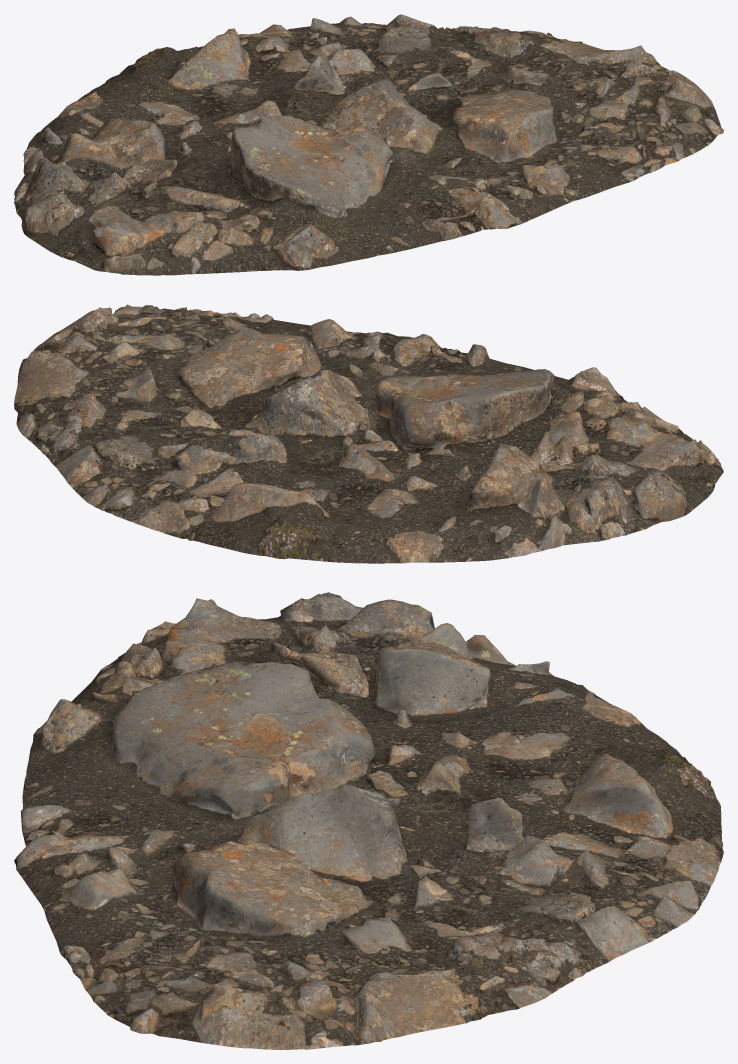
The model's file is ground.gltf.
The picture shows the model from 3 angles, top to bottom: view 1: azimuth 30°, elevation 25°; view 2: azimuth 150°, elevation 25°; view 3: azimuth 270°, elevation 25°; orthographic projection. The views are drawn at different scales.
Parts seen in each view (by area): view 1: tdbmcflda_LOD0_TIER2_000; view 2: tdbmcflda_LOD0_TIER2_000; view 3: tdbmcflda_LOD0_TIER2_000.
Part boxes in pixels (box(x1,y1,x2,y2)): tdbmcflda_LOD0_TIER2_000: box(14, 14, 723, 275); tdbmcflda_LOD0_TIER2_000: box(14, 304, 723, 563); tdbmcflda_LOD0_TIER2_000: box(14, 592, 723, 1049).
Bounding box in the file's own units: 8.76 × 0.8134 × 6.09.
1 material, 1 textured.
